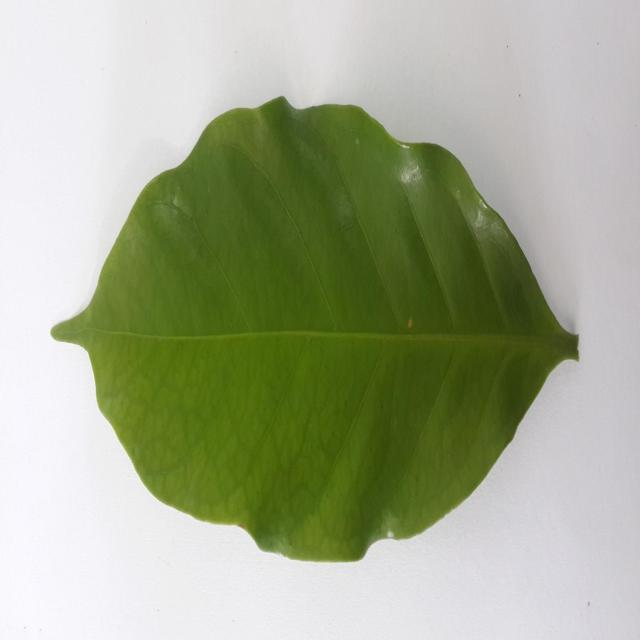Sanas: (49, 98, 581, 566)
